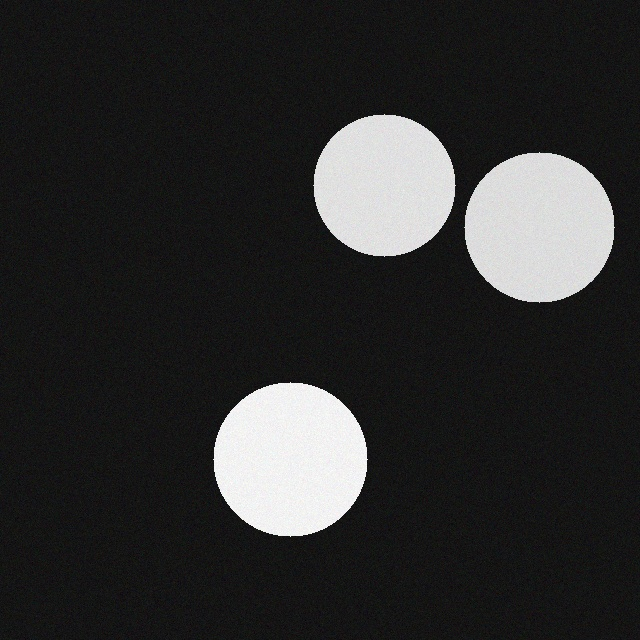circle: (211, 391, 365, 545), (462, 161, 612, 311), (311, 123, 453, 265)
